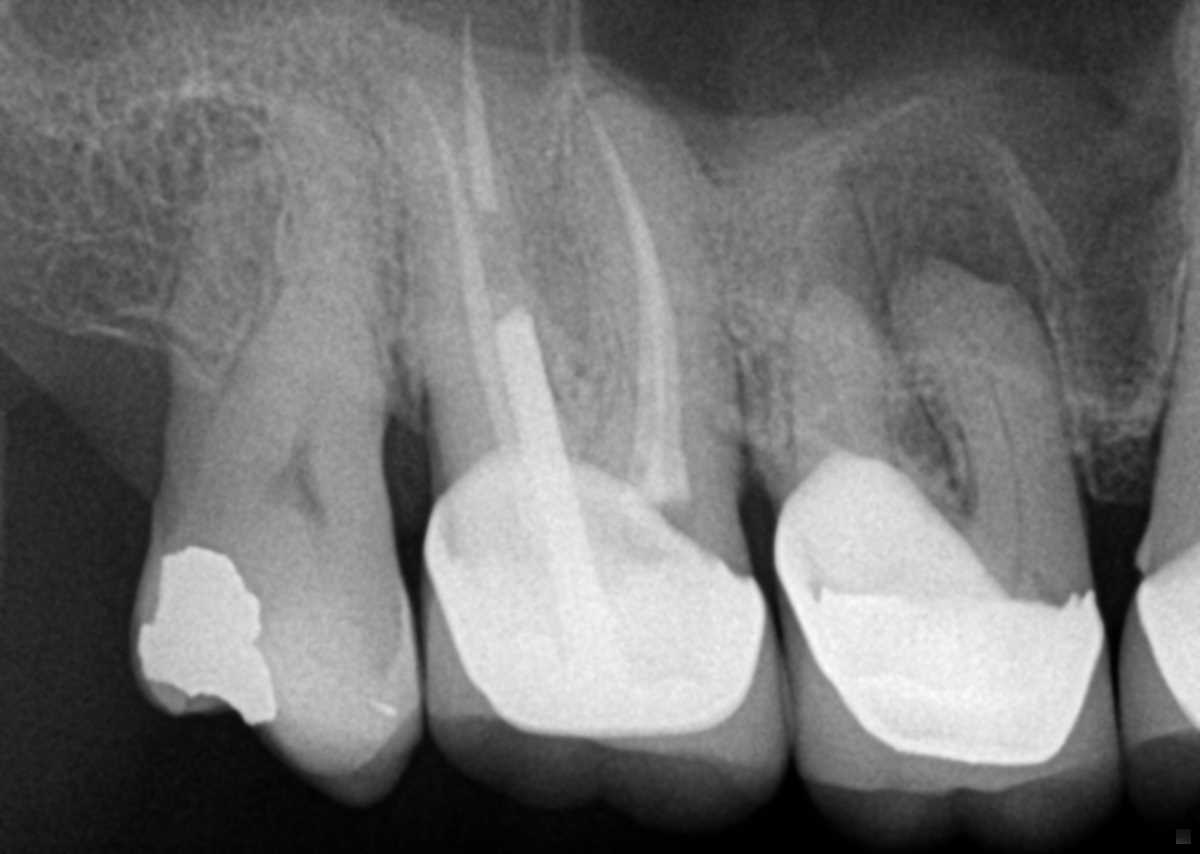Apical Lesion: (804, 103, 1041, 304)
Distal Root: (161, 156, 383, 472), (398, 83, 571, 447), (792, 284, 896, 496)
Main Root: (1148, 246, 1200, 509)
Mesial Canal: (919, 275, 1025, 524)
Mesial Root: (161, 156, 383, 472), (567, 91, 741, 468), (205, 94, 388, 431), (899, 255, 1087, 529)
Palatal Root: (408, 0, 667, 534), (745, 111, 960, 522)
Root Canal Filling: (421, 98, 538, 519), (582, 97, 693, 506), (464, 9, 500, 208)
